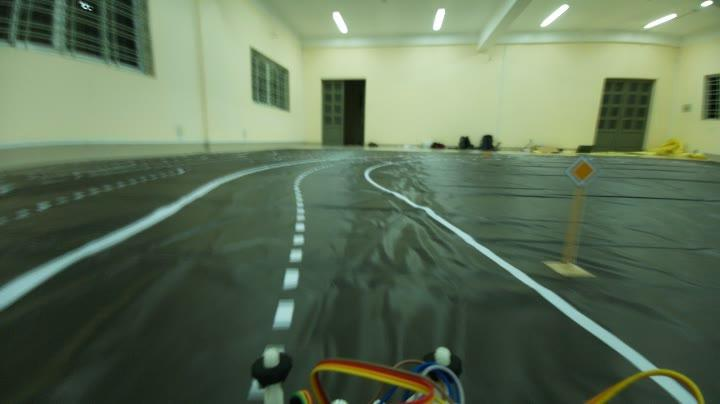priority: (568, 152, 596, 190)
